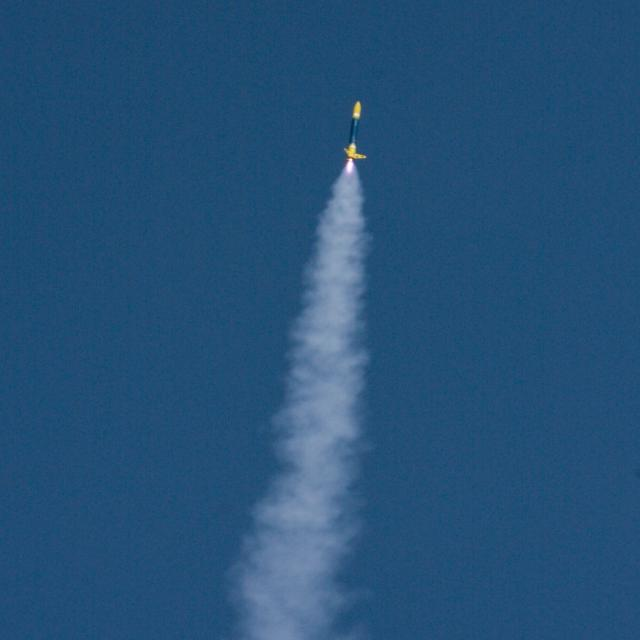Rocket: (341, 100, 367, 163)
